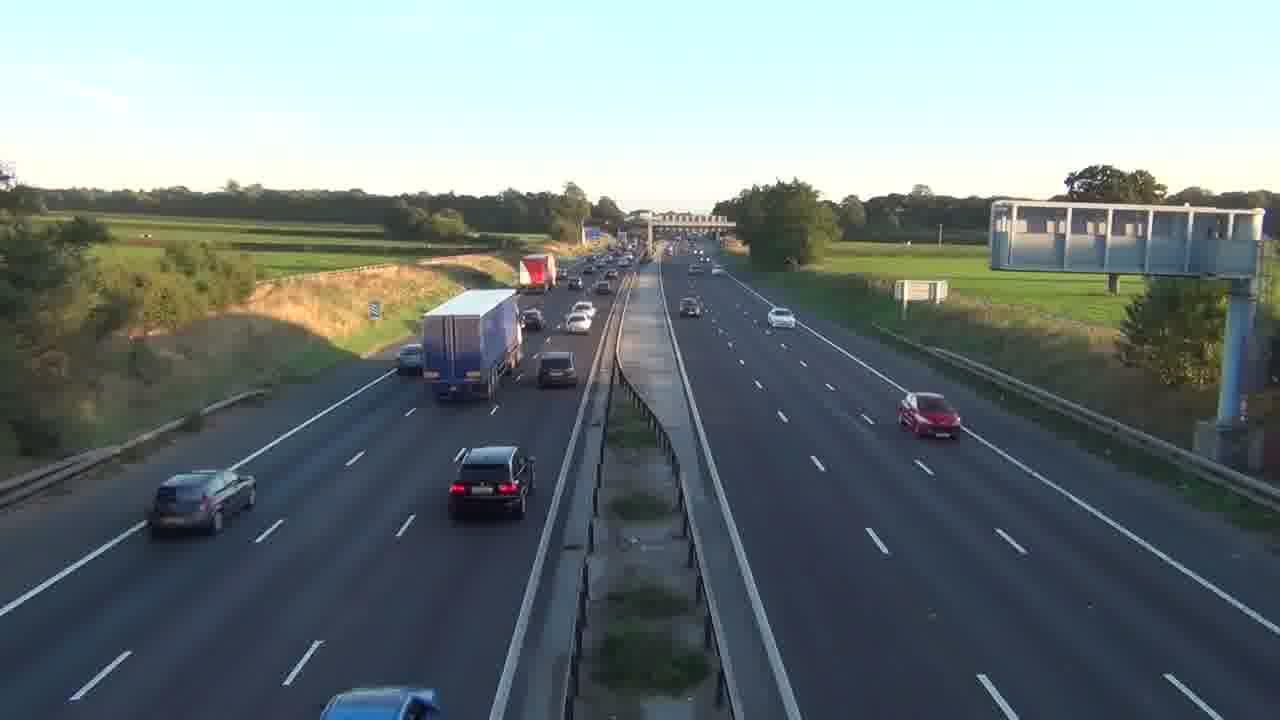car: (146, 469, 257, 537), (447, 444, 534, 522), (320, 686, 444, 719), (896, 391, 962, 440), (536, 350, 578, 388), (398, 344, 424, 375), (565, 312, 595, 334), (679, 295, 704, 317)
truck: (420, 287, 521, 403)
